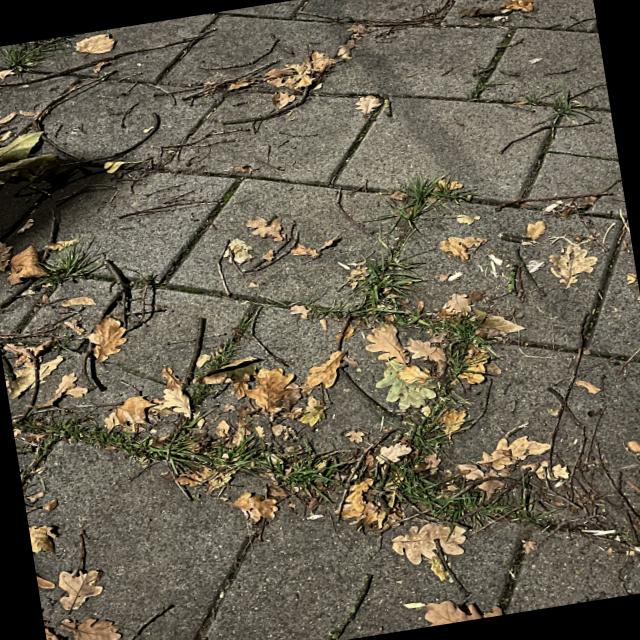leaves: (206, 350, 345, 443)
weed: (315, 256, 484, 525)
